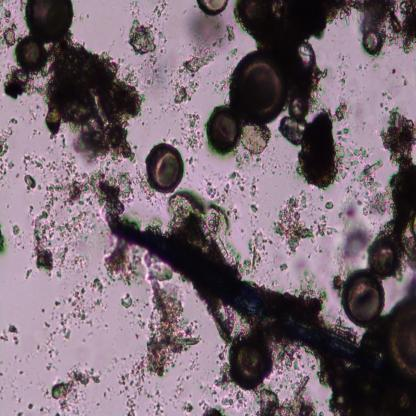Background material: (46, 38, 146, 164), (118, 270, 188, 414), (27, 155, 92, 279), (284, 74, 342, 189), (39, 274, 105, 369), (380, 102, 416, 264), (317, 356, 416, 413), (332, 140, 389, 220), (271, 186, 338, 254), (258, 0, 342, 54), (342, 0, 416, 54), (167, 190, 226, 256), (336, 196, 373, 276), (50, 364, 102, 415), (168, 52, 216, 107), (91, 164, 138, 217), (259, 374, 320, 414), (201, 366, 250, 414), (103, 236, 144, 288), (291, 270, 331, 320), (270, 341, 307, 390), (233, 227, 271, 273), (184, 12, 225, 50), (203, 168, 245, 205), (2, 66, 47, 99), (177, 107, 205, 155), (0, 116, 20, 180), (127, 19, 160, 56), (241, 125, 273, 160), (0, 0, 19, 50), (141, 54, 169, 87), (136, 164, 158, 205), (22, 153, 46, 190), (234, 148, 266, 172), (248, 173, 262, 215), (338, 52, 350, 97), (331, 96, 349, 124), (1, 323, 20, 346), (120, 294, 136, 312), (154, 0, 170, 18), (179, 397, 195, 414), (223, 22, 236, 41), (10, 220, 23, 238), (0, 222, 5, 256), (278, 260, 290, 273), (402, 71, 410, 88), (25, 401, 35, 412), (25, 268, 34, 280)
Cotton: (109, 216, 411, 392)
Diatom: (229, 48, 287, 125), (231, 330, 276, 392), (341, 269, 386, 329), (386, 292, 416, 378), (146, 142, 185, 195), (25, 0, 75, 41), (207, 105, 241, 155), (369, 240, 401, 278), (210, 296, 237, 341), (16, 35, 47, 72), (236, 0, 274, 27), (294, 41, 316, 76), (196, 0, 230, 16), (364, 29, 382, 55)
